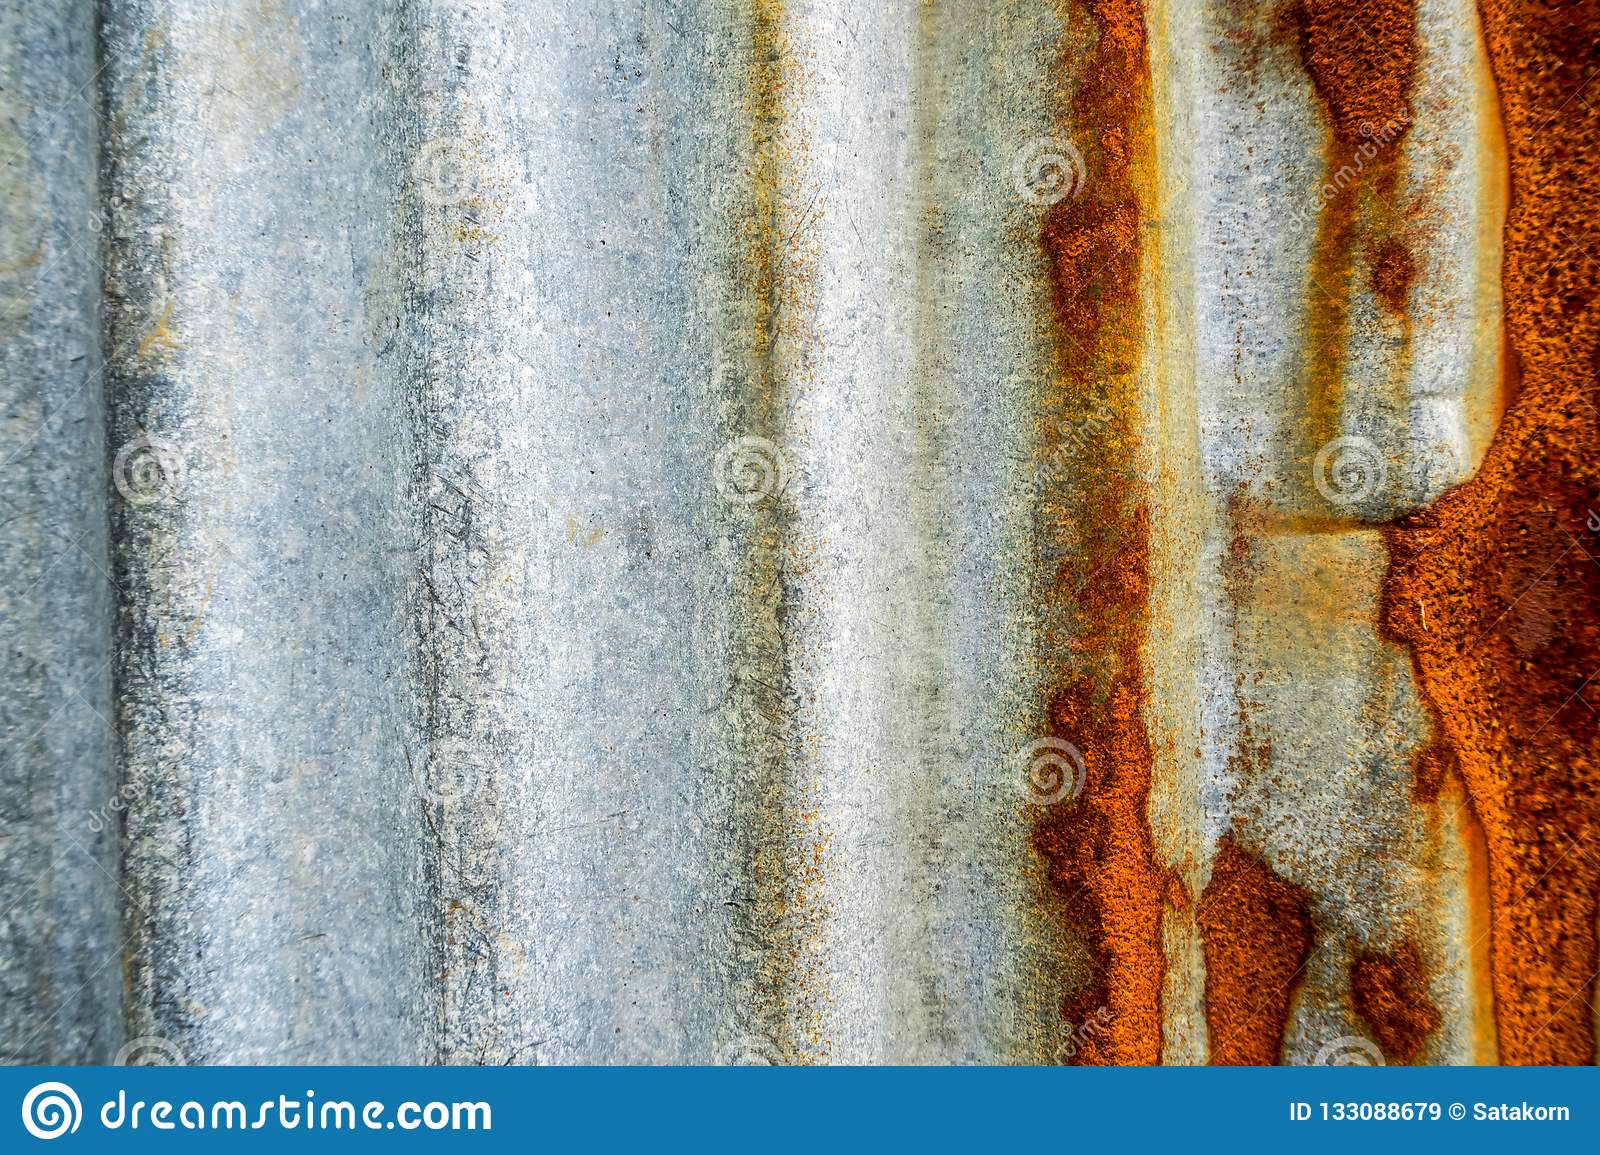rust: (1475, 9, 1593, 1061), (1034, 689, 1160, 1062), (1050, 11, 1144, 363), (1184, 828, 1291, 1062), (1289, 4, 1422, 164)
